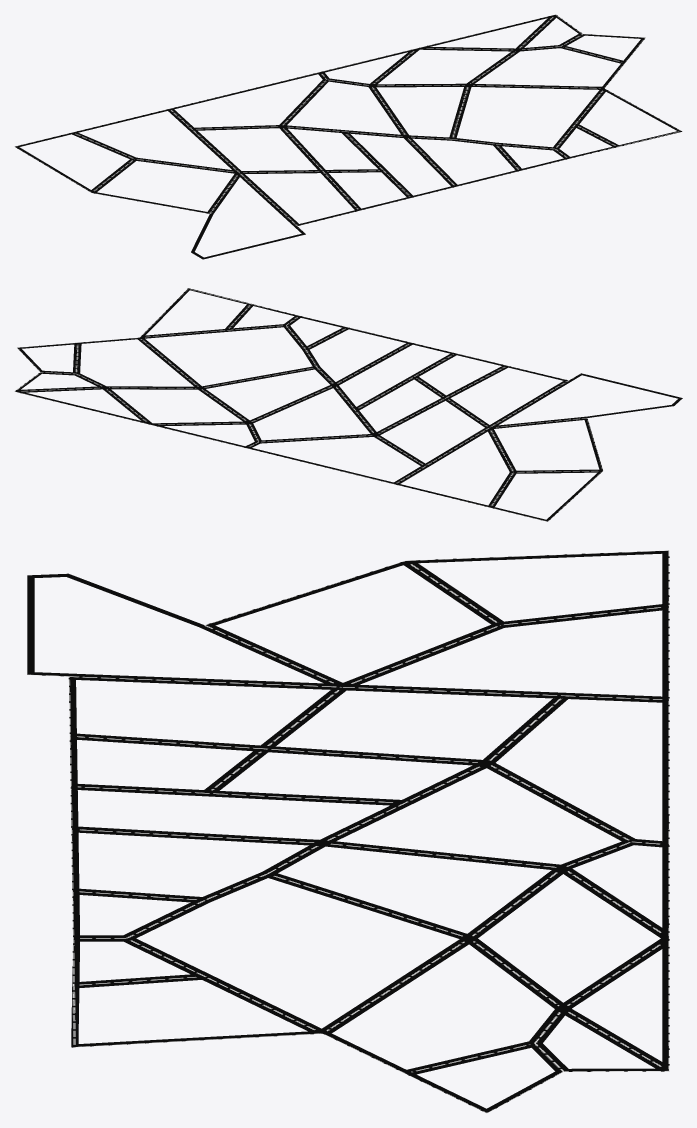
File: Roads.fbx
3 renders of one model, top to bottom at view 1: azimuth 30°, elevation 25°; view 2: azimuth 150°, elevation 25°; view 3: azimuth 270°, elevation 25°, orthographic. The views are drawn at different scales.
Visible parts, largest first — view 1: Roads; view 2: Roads; view 3: Roads.
Part boxes in pixels (left/top/right/bottom): Roads: left=14, top=14, right=682, bottom=259; Roads: left=14, top=288, right=682, bottom=521; Roads: left=27, top=550, right=669, bottom=1113.
Size of the model in its own units: 4584 by 4.95e-14 by 2210.
